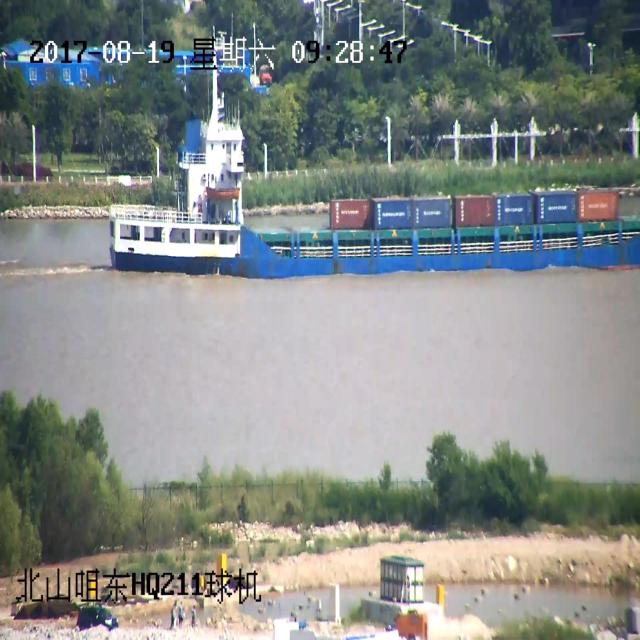cargoship: (116, 110, 612, 287)
